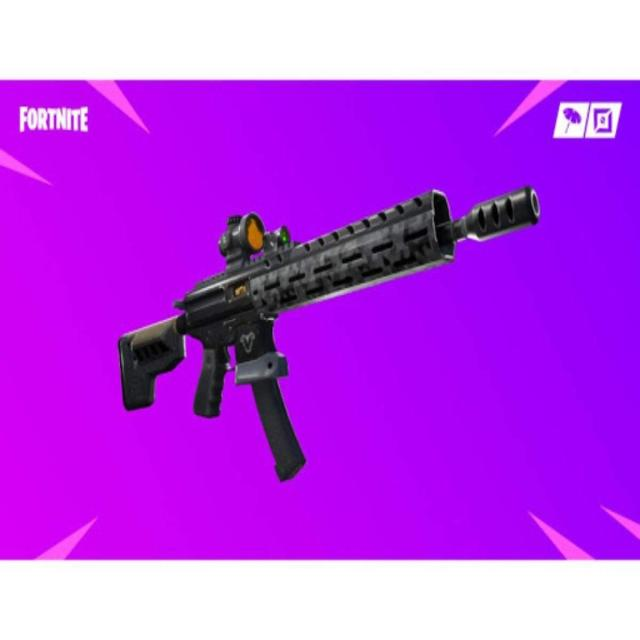weapon: (109, 174, 542, 488)
